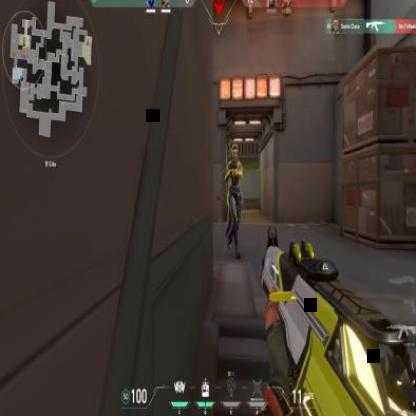enemy: (225, 142, 244, 262)
enemy_head: (231, 144, 238, 161)
